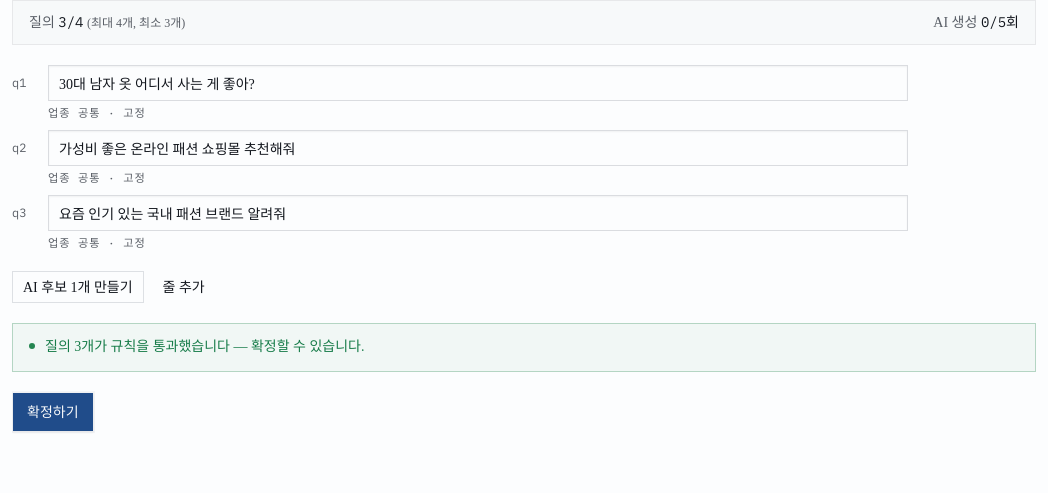
Test: QueryEditor — 템플릿과 같은 글자가 두 번 들어온 줄 › AI 생성이 템플릿과 같은 질의를 돌려줘도 그 줄을 지울 수 있다
Click the button "AI 후보 1개 만들기": click(78, 288) [12,272,144,304]
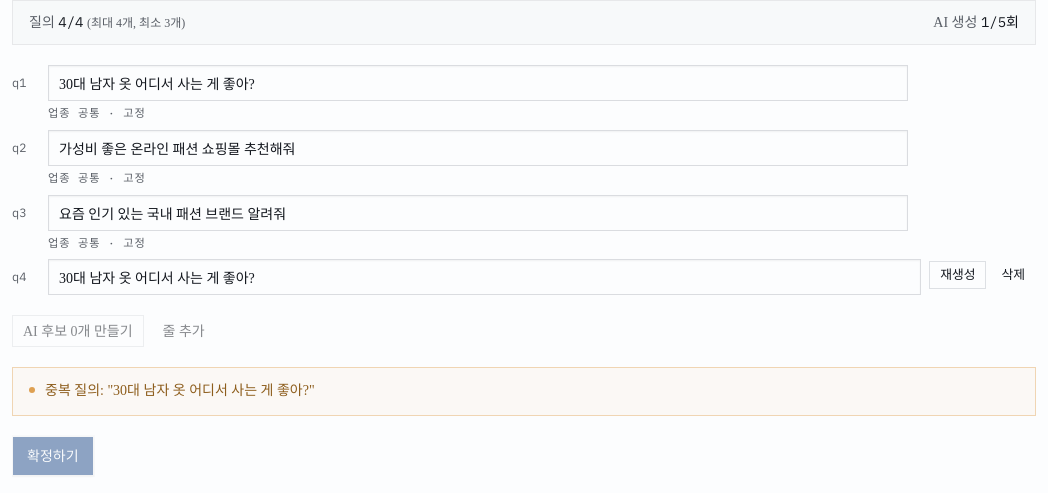
Now the button with aria-label "질의 4 삭제" is enabled
Now the number of fields is 4, box [48,65,908,101]; [48,130,908,166]; [48,195,908,231]; [48,260,921,296]
Now the button with aria-label "질의 4 삭제" is shown
Click the button with aria-label "질의 4 삭제": click(1013, 276) [990,262,1036,290]
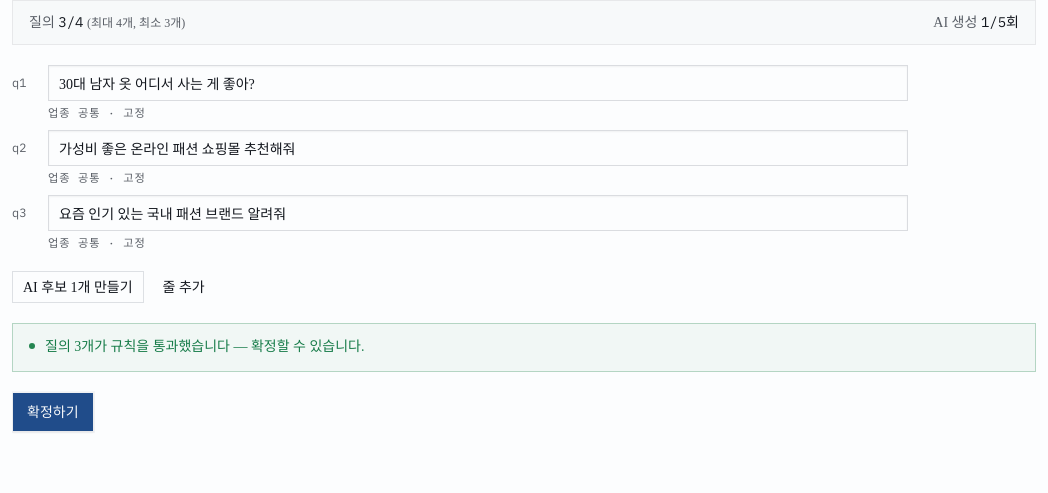
Now the message shows "확정할 수 있습니다", box [45,340,364,354]
Now the button "확정하기" is enabled, box [12,392,94,432]
